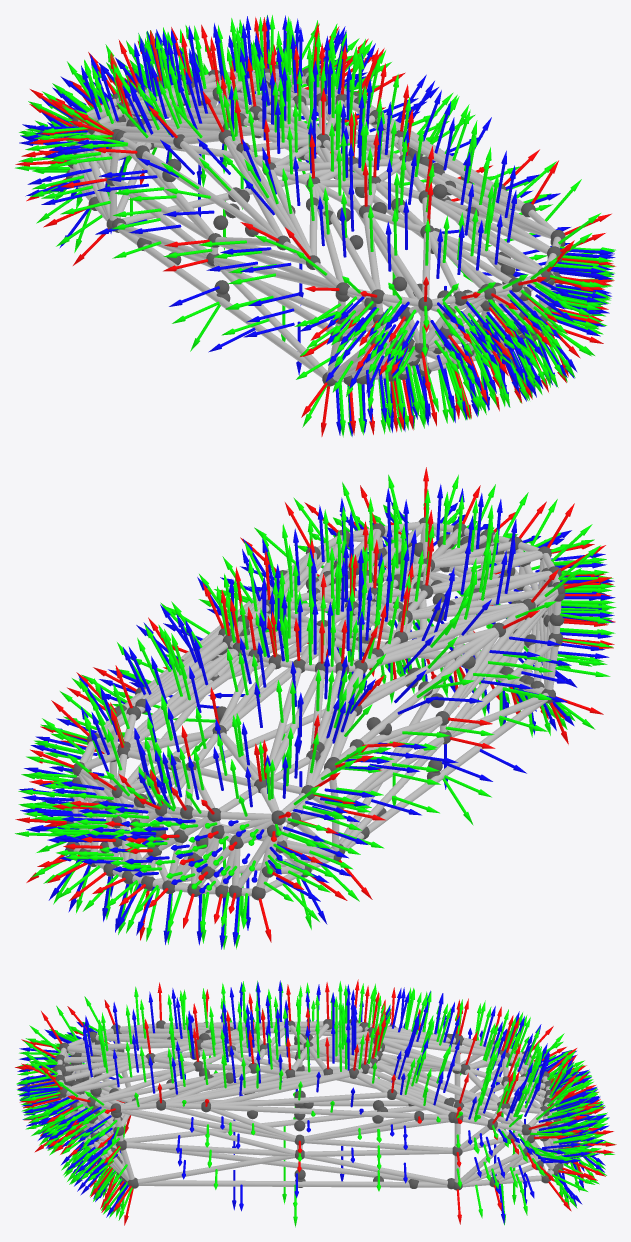
Rendered from ils_car3.gltf.
3 views of the same model, one above another, from view 1: azimuth 30°, elevation 25°; view 2: azimuth 150°, elevation 25°; view 3: azimuth 270°, elevation 25° (orthographic). The views are drawn at different scales.
Size of the model in its own units: 0.5177 by 0.3513 by 1.07.
